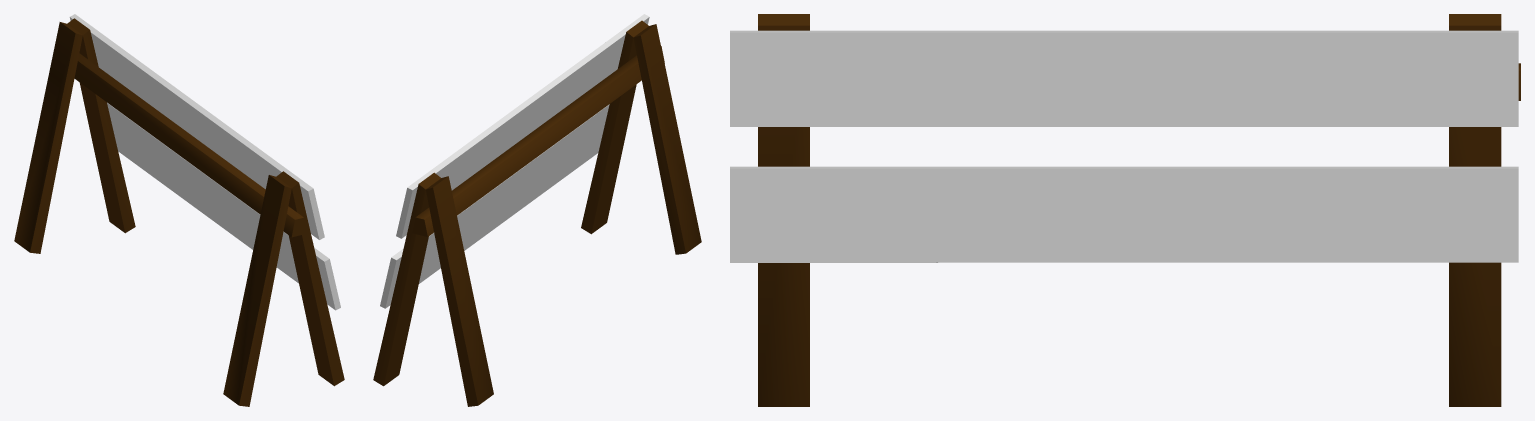
File: Road_Barrier_Stripes.fbx
3 views of the same model, side by side, from view 1: azimuth 30°, elevation 25°; view 2: azimuth 150°, elevation 25°; view 3: azimuth 270°, elevation 25° (orthographic). The views are drawn at different scales.
Parts seen in each view (by area): view 1: Road Barrier Stripes; view 2: Road Barrier Stripes; view 3: Road Barrier Stripes.
Part boxes in pixels (bbox=[...]): Road Barrier Stripes: bbox=[14, 14, 344, 406]; Road Barrier Stripes: bbox=[373, 14, 701, 406]; Road Barrier Stripes: bbox=[730, 14, 1520, 406].
Size of the model in its own units: 5895 by 11296 by 23082.
